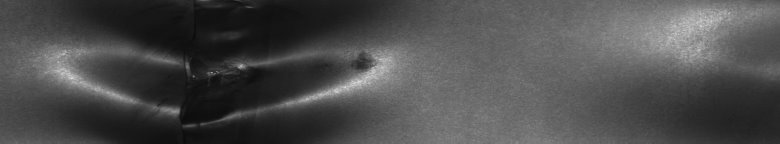ke: (90, 6, 376, 128)
